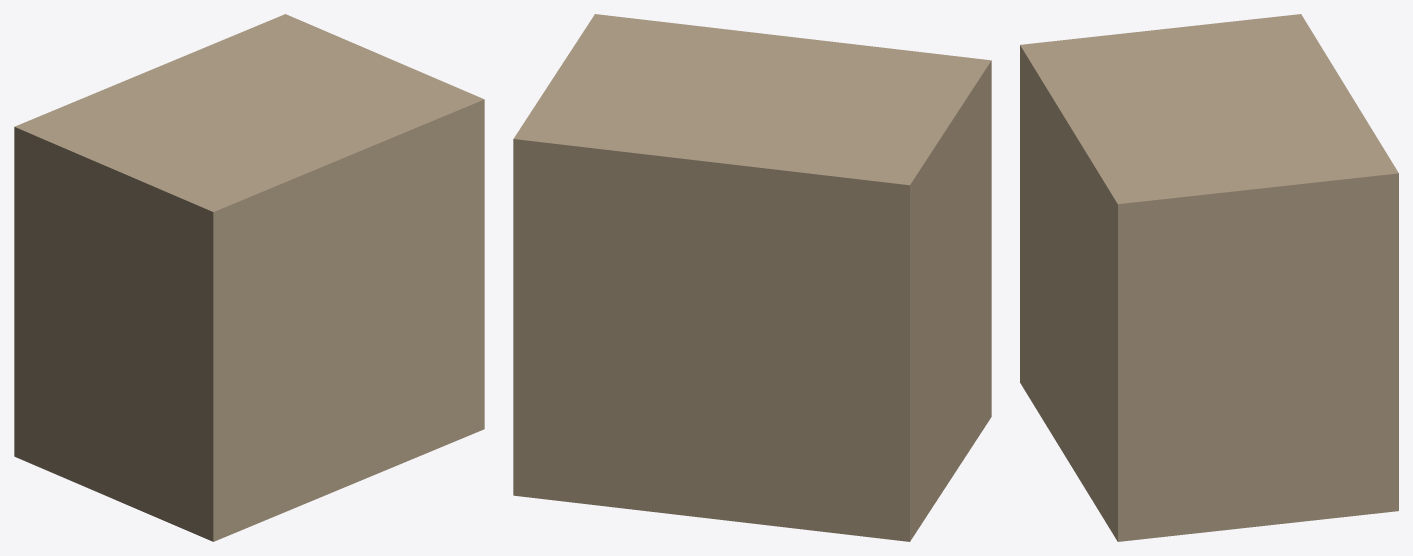
Rendered from bld_106456199.dae.
The picture shows the model from 3 angles, left to right: view 1: azimuth 30°, elevation 25°; view 2: azimuth 150°, elevation 25°; view 3: azimuth 270°, elevation 25°; orthographic projection. The views are drawn at different scales.
Parts seen in each view (by area): view 1: bld_106456199; view 2: bld_106456199; view 3: bld_106456199.
Part boxes in pixels (x1,y1,x2,y2): bld_106456199: [14, 14, 484, 541]; bld_106456199: [513, 14, 991, 541]; bld_106456199: [1020, 14, 1398, 541].
Size of the model in its own units: 9.66 by 8.14 by 8.
